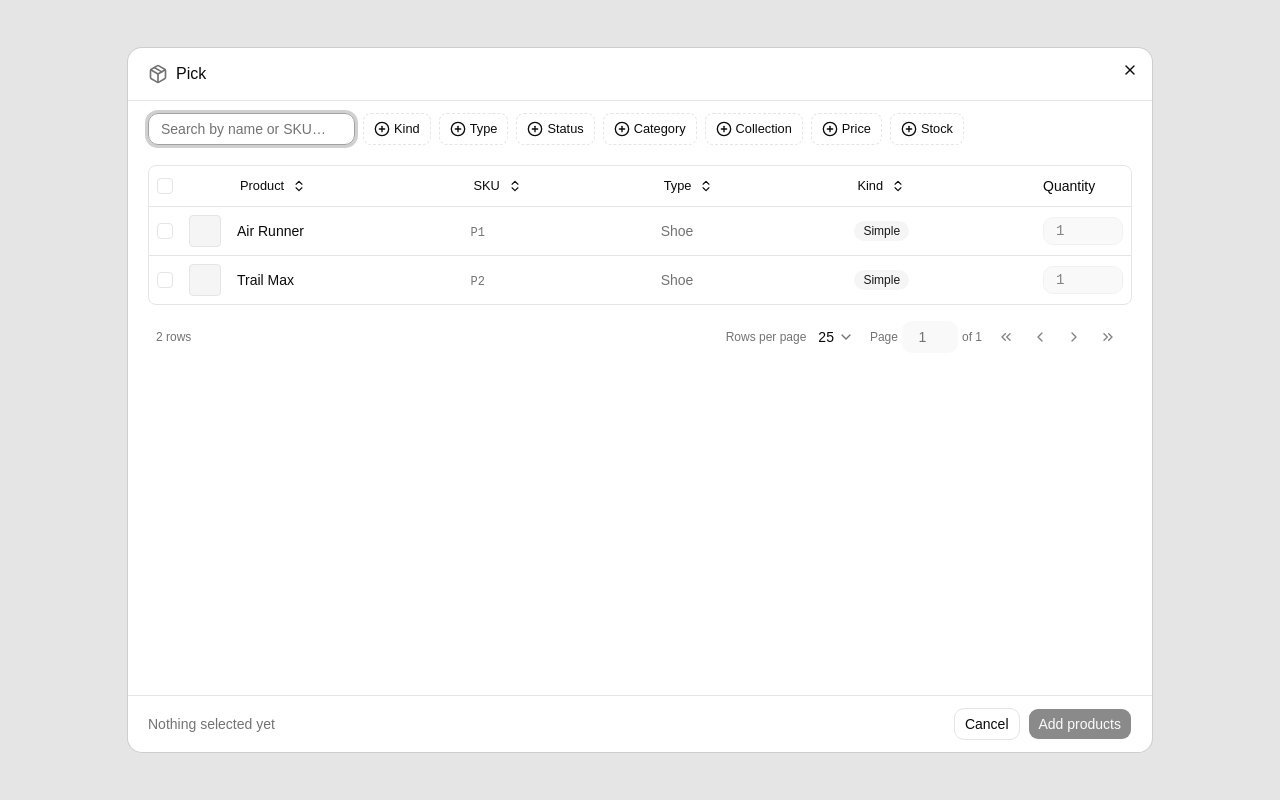
Test: ProductPickerDialog › keeps only the failed picks ticked, with their errors
Step 1. Click the checkbox named "Select Air Runner" → click(165, 230), box x1=157 y1=222 x2=173 y2=238
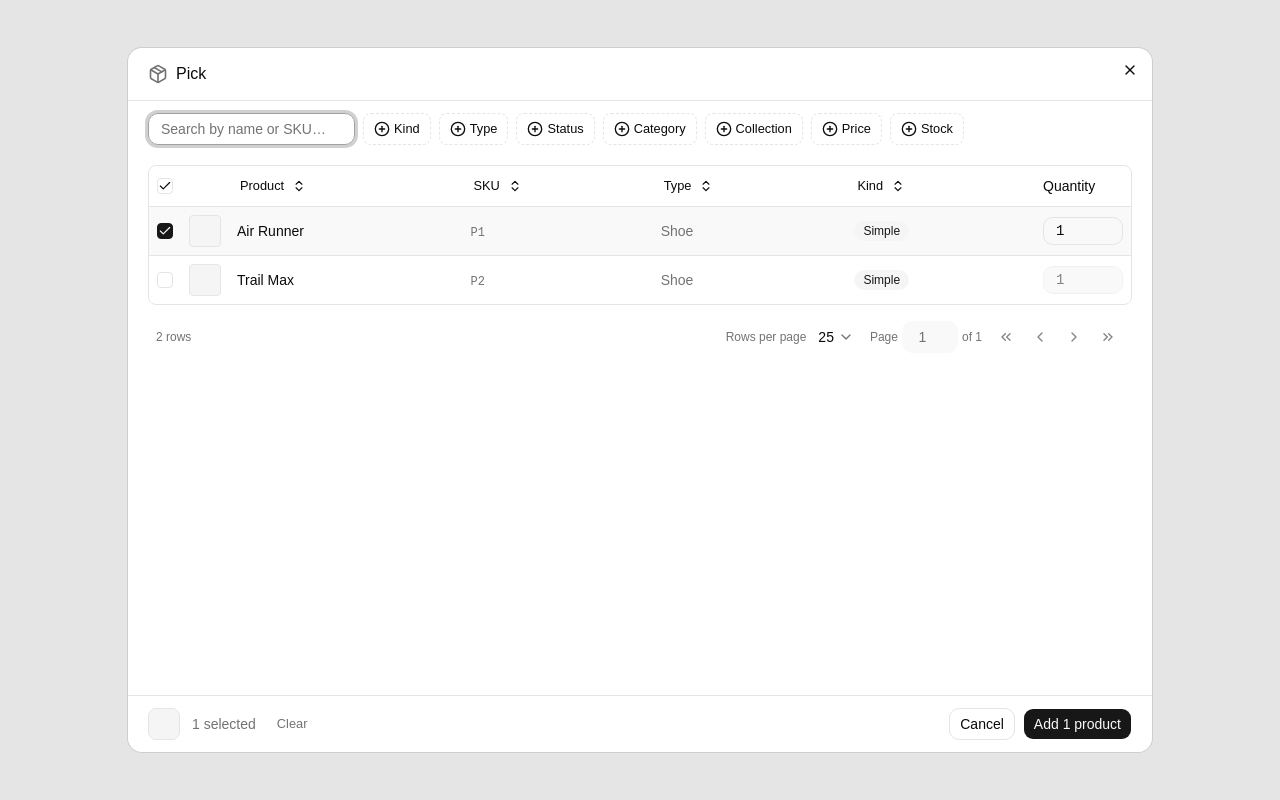
Step 2. Click the checkbox named "Select Trail Max" → click(165, 280), box x1=157 y1=272 x2=173 y2=288
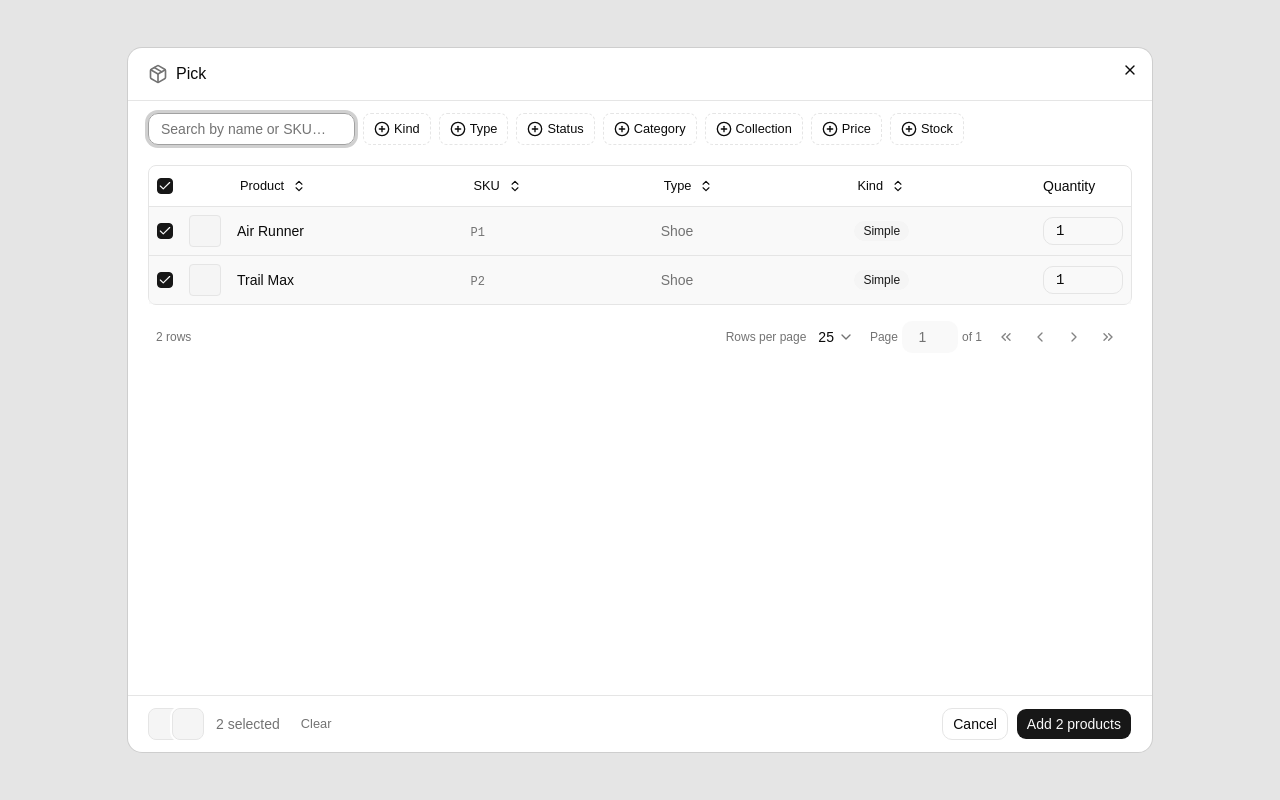
Step 3. Replace the text in the number field named "Quantity" in the row of "Trail Max" with "7" → (1083, 280), box x1=1043 y1=266 x2=1123 y2=294
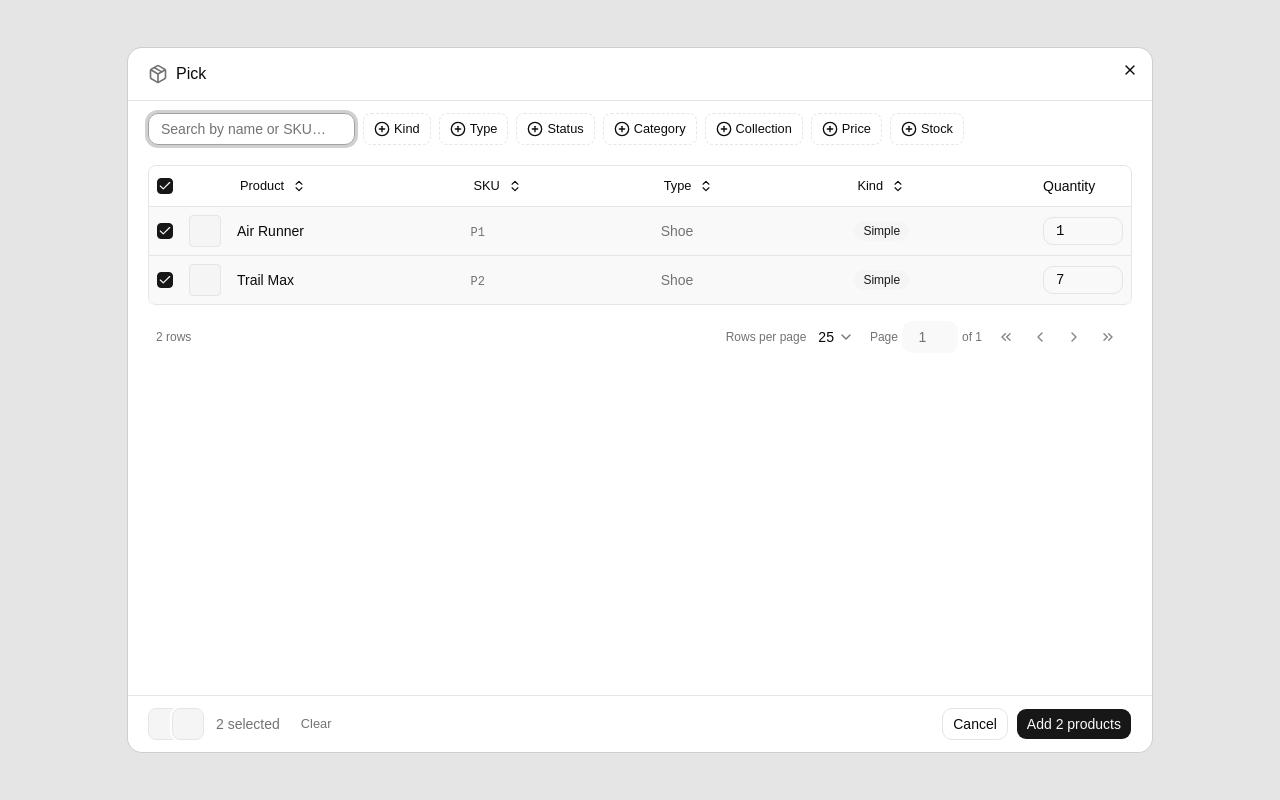
Step 4. Click the button "Add 2 products" → click(1074, 724), box x1=1016 y1=708 x2=1132 y2=740
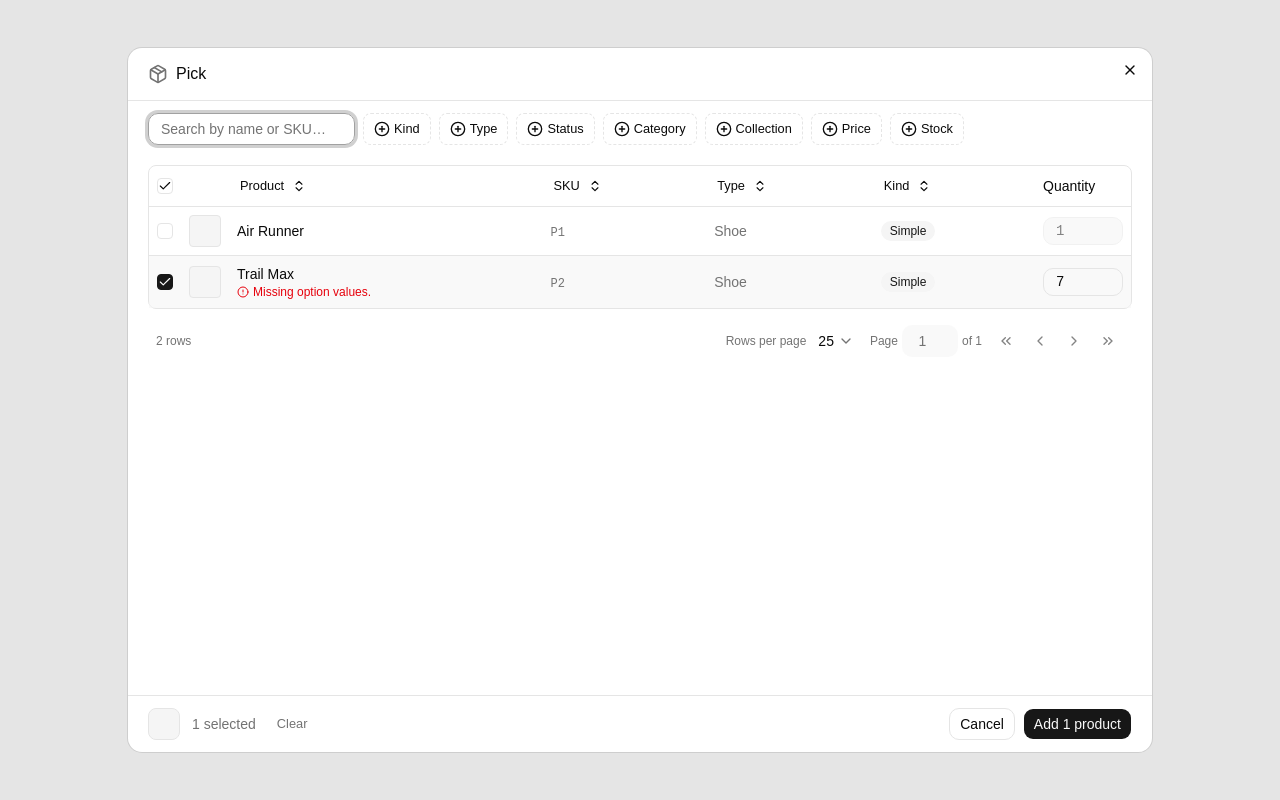
Now the checkbox named "Select Air Runner" is not checked, box x1=157 y1=222 x2=173 y2=238
Now the text "Missing option values." is shown, box x1=237 y1=284 x2=371 y2=298
Now the button "Add 1 product" is shown
Step 5. Click the button "Add 1 product" → click(1077, 724), box x1=1023 y1=708 x2=1132 y2=740
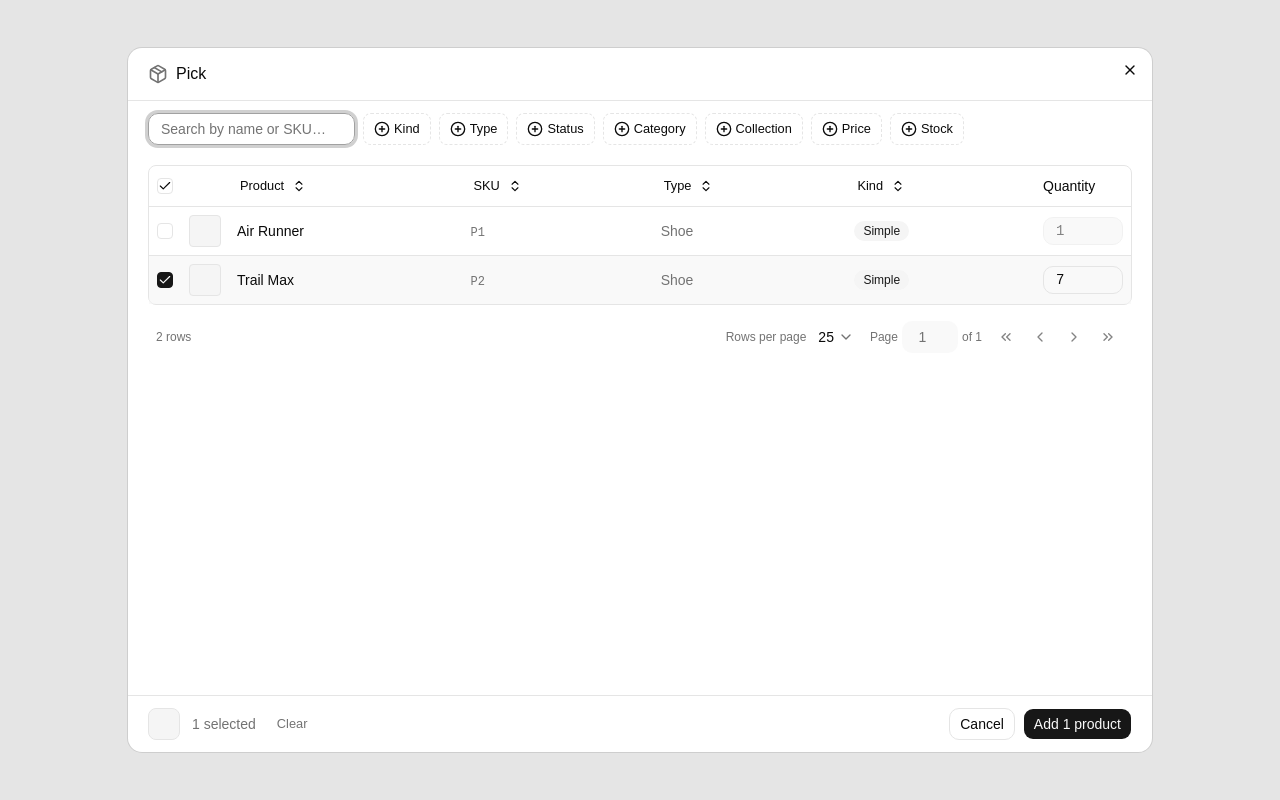
Now the text "Missing option values." is gone
